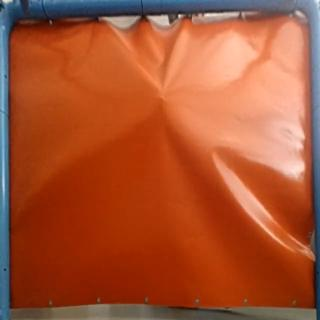Hit-hRxx: (154, 88, 168, 107)
